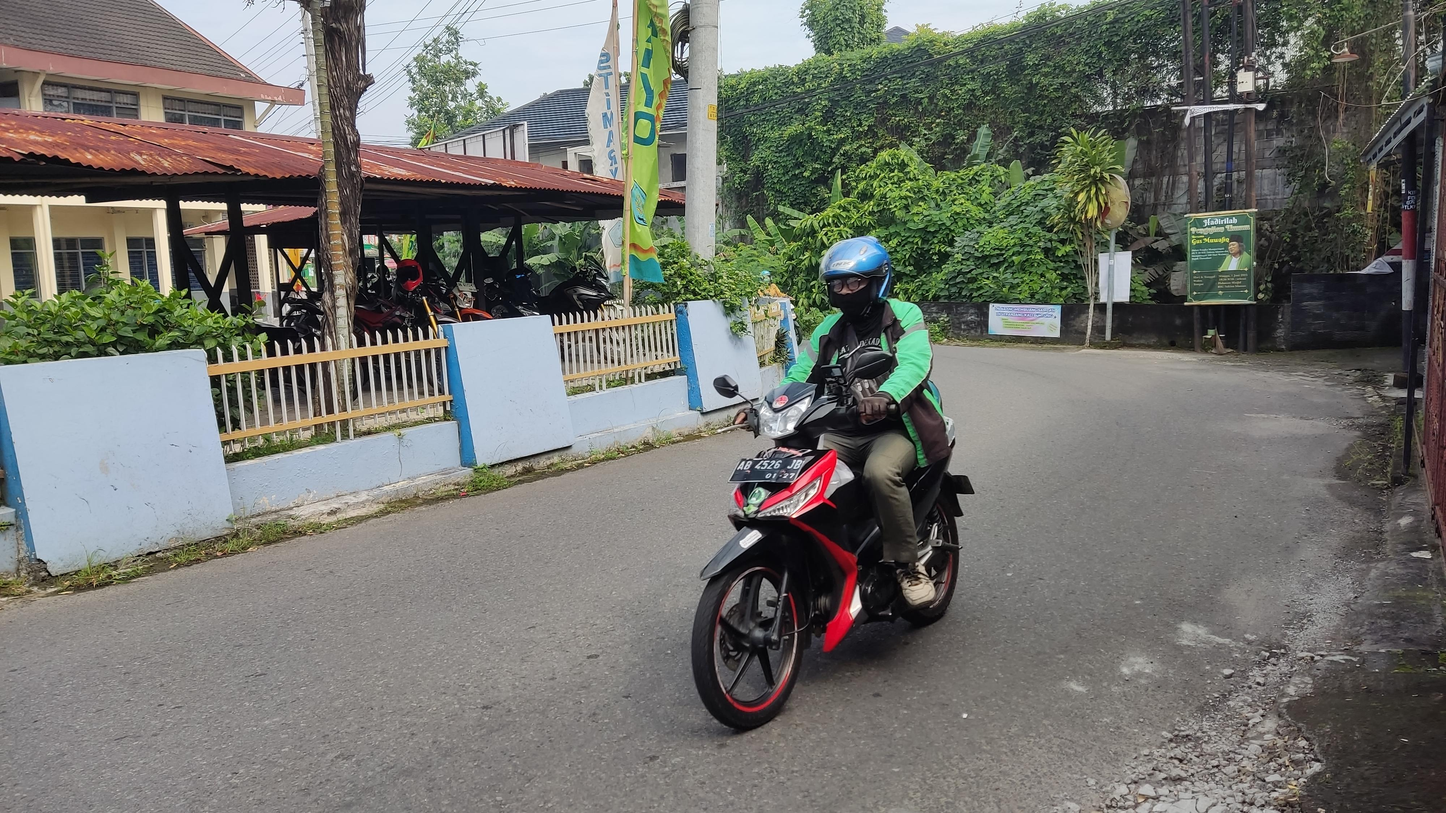helm: (816, 237, 895, 324)
riding: (689, 237, 978, 732)
